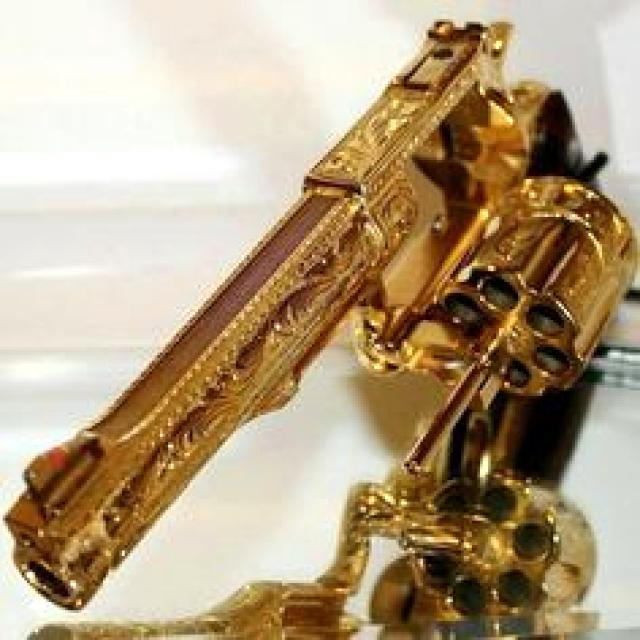revolver: (0, 11, 621, 629)
